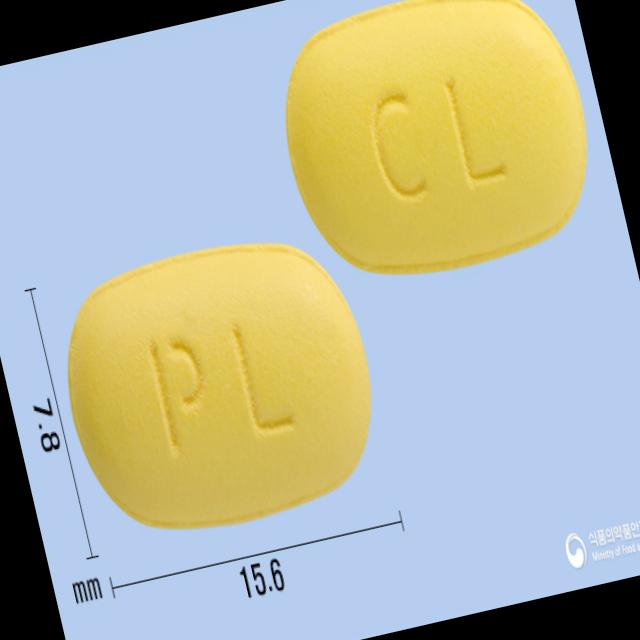Clathro: (36, 210, 400, 561), (260, 0, 617, 301)
